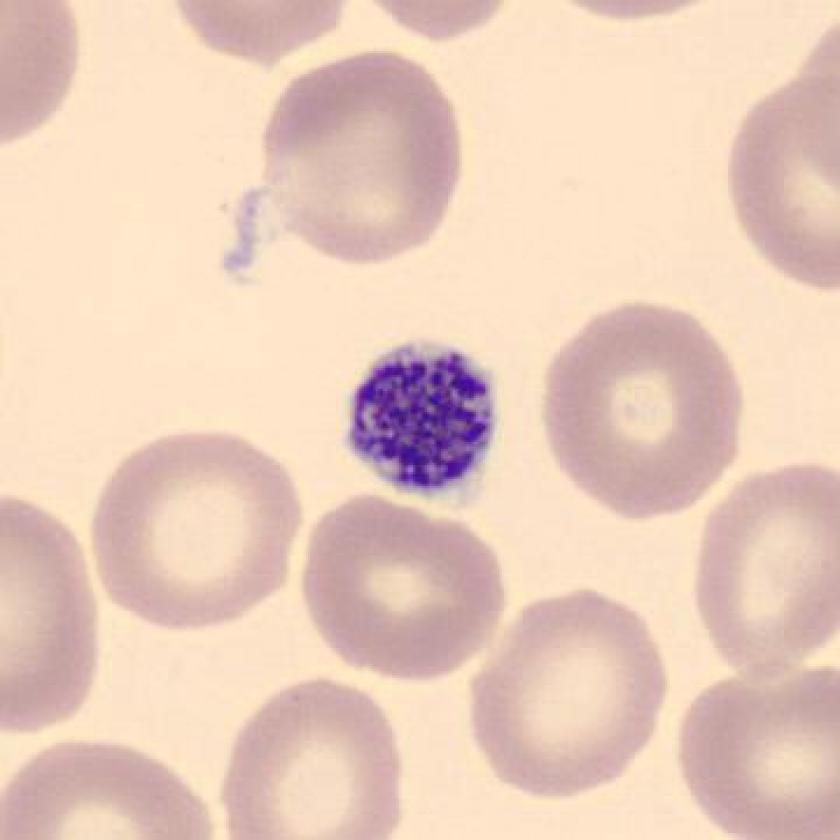platelets: (340, 335, 508, 506)
